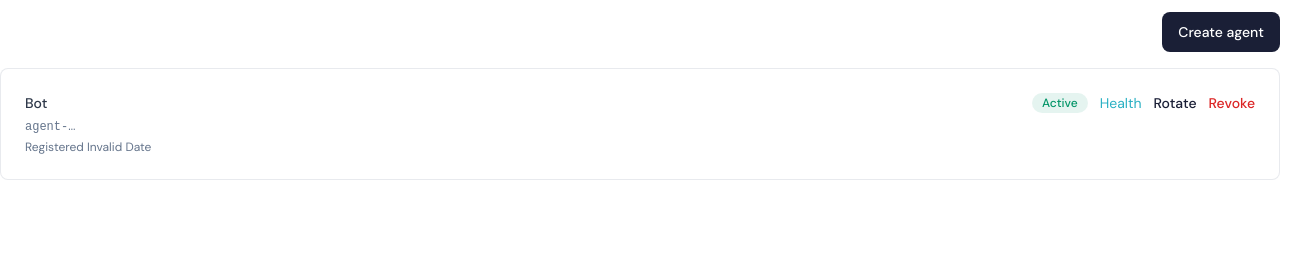
Test: AgentsPanel › surfaces an error when revoke fails
Click the button "Revoke".
click(1232, 103)  # box [1208,93,1255,113]
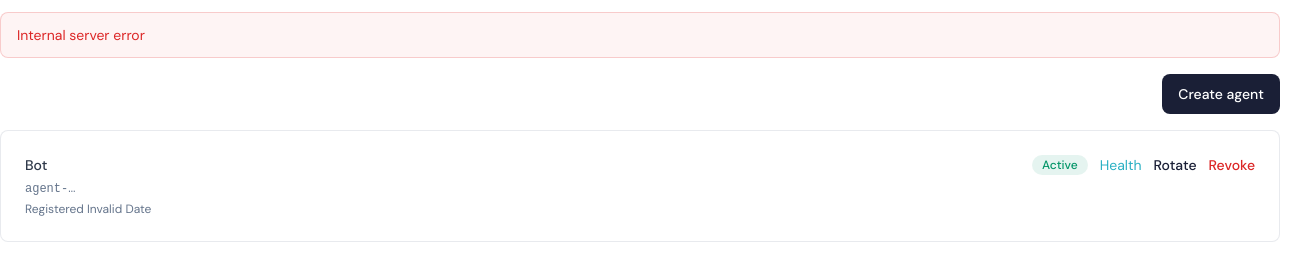
Check: the message reads "Internal server error", box [17,26,145,44]
